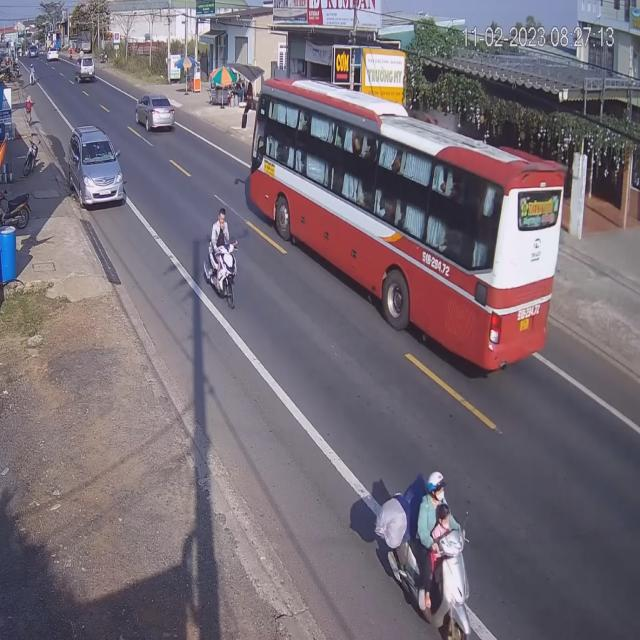bus: (247, 80, 564, 381)
car: (68, 126, 125, 210), (135, 93, 176, 134), (78, 54, 97, 84)
motorbike: (379, 471, 469, 638), (207, 208, 238, 307)
